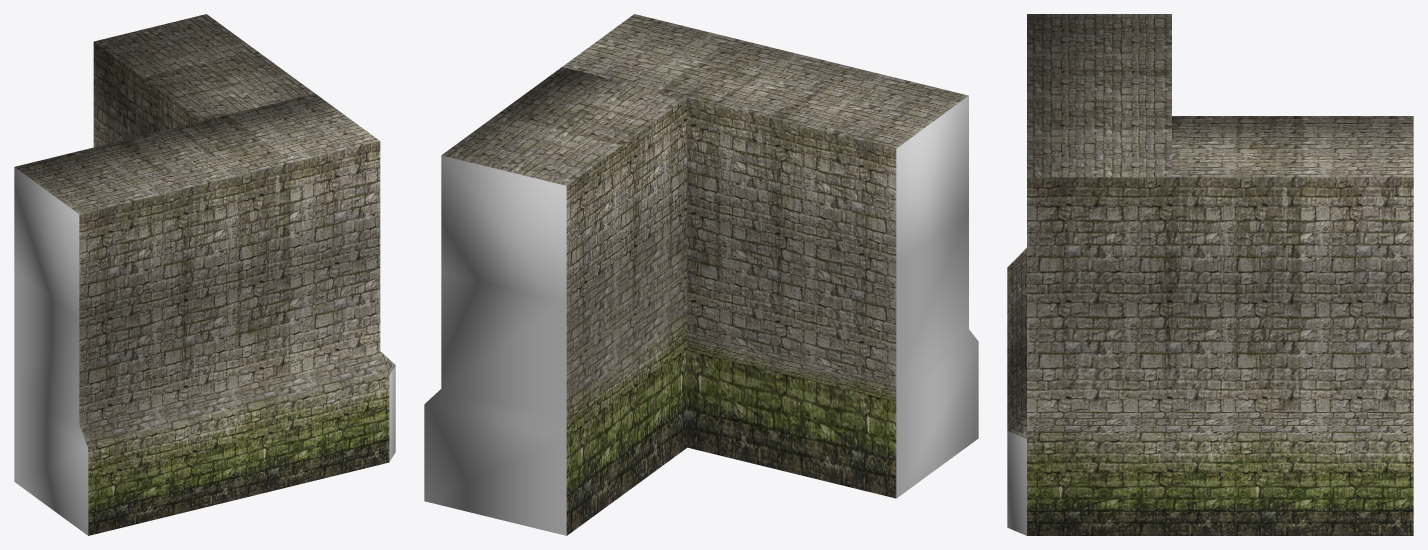
File: Wall_Corner1.fbx
The picture shows the model from 3 angles, left to right: view 1: azimuth 30°, elevation 25°; view 2: azimuth 150°, elevation 25°; view 3: azimuth 270°, elevation 25°; orthographic projection. The views are drawn at different scales.
Parts seen in each view (by area): view 1: Cube_005; view 2: Cube_005; view 3: Cube_005.
Part boxes in pixels (x1,y1,x2,y2): Cube_005: [14, 14, 395, 535]; Cube_005: [424, 14, 978, 535]; Cube_005: [1007, 14, 1413, 535].
Size of the model in its own units: 538 by 512 by 538.
